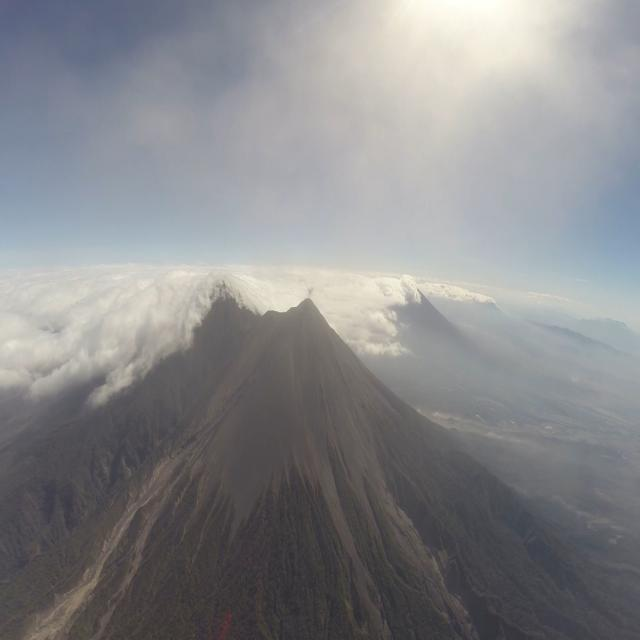Plume: (306, 286, 314, 299)
Summit: (290, 298, 322, 316)
